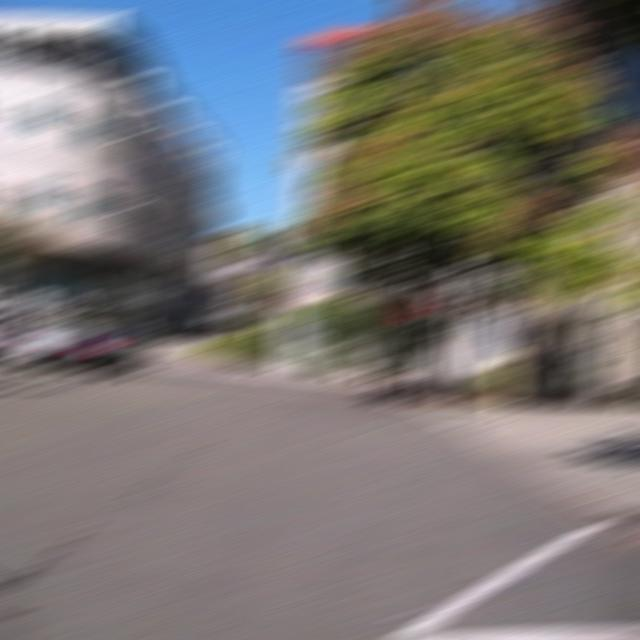stop: (392, 295, 430, 320)
